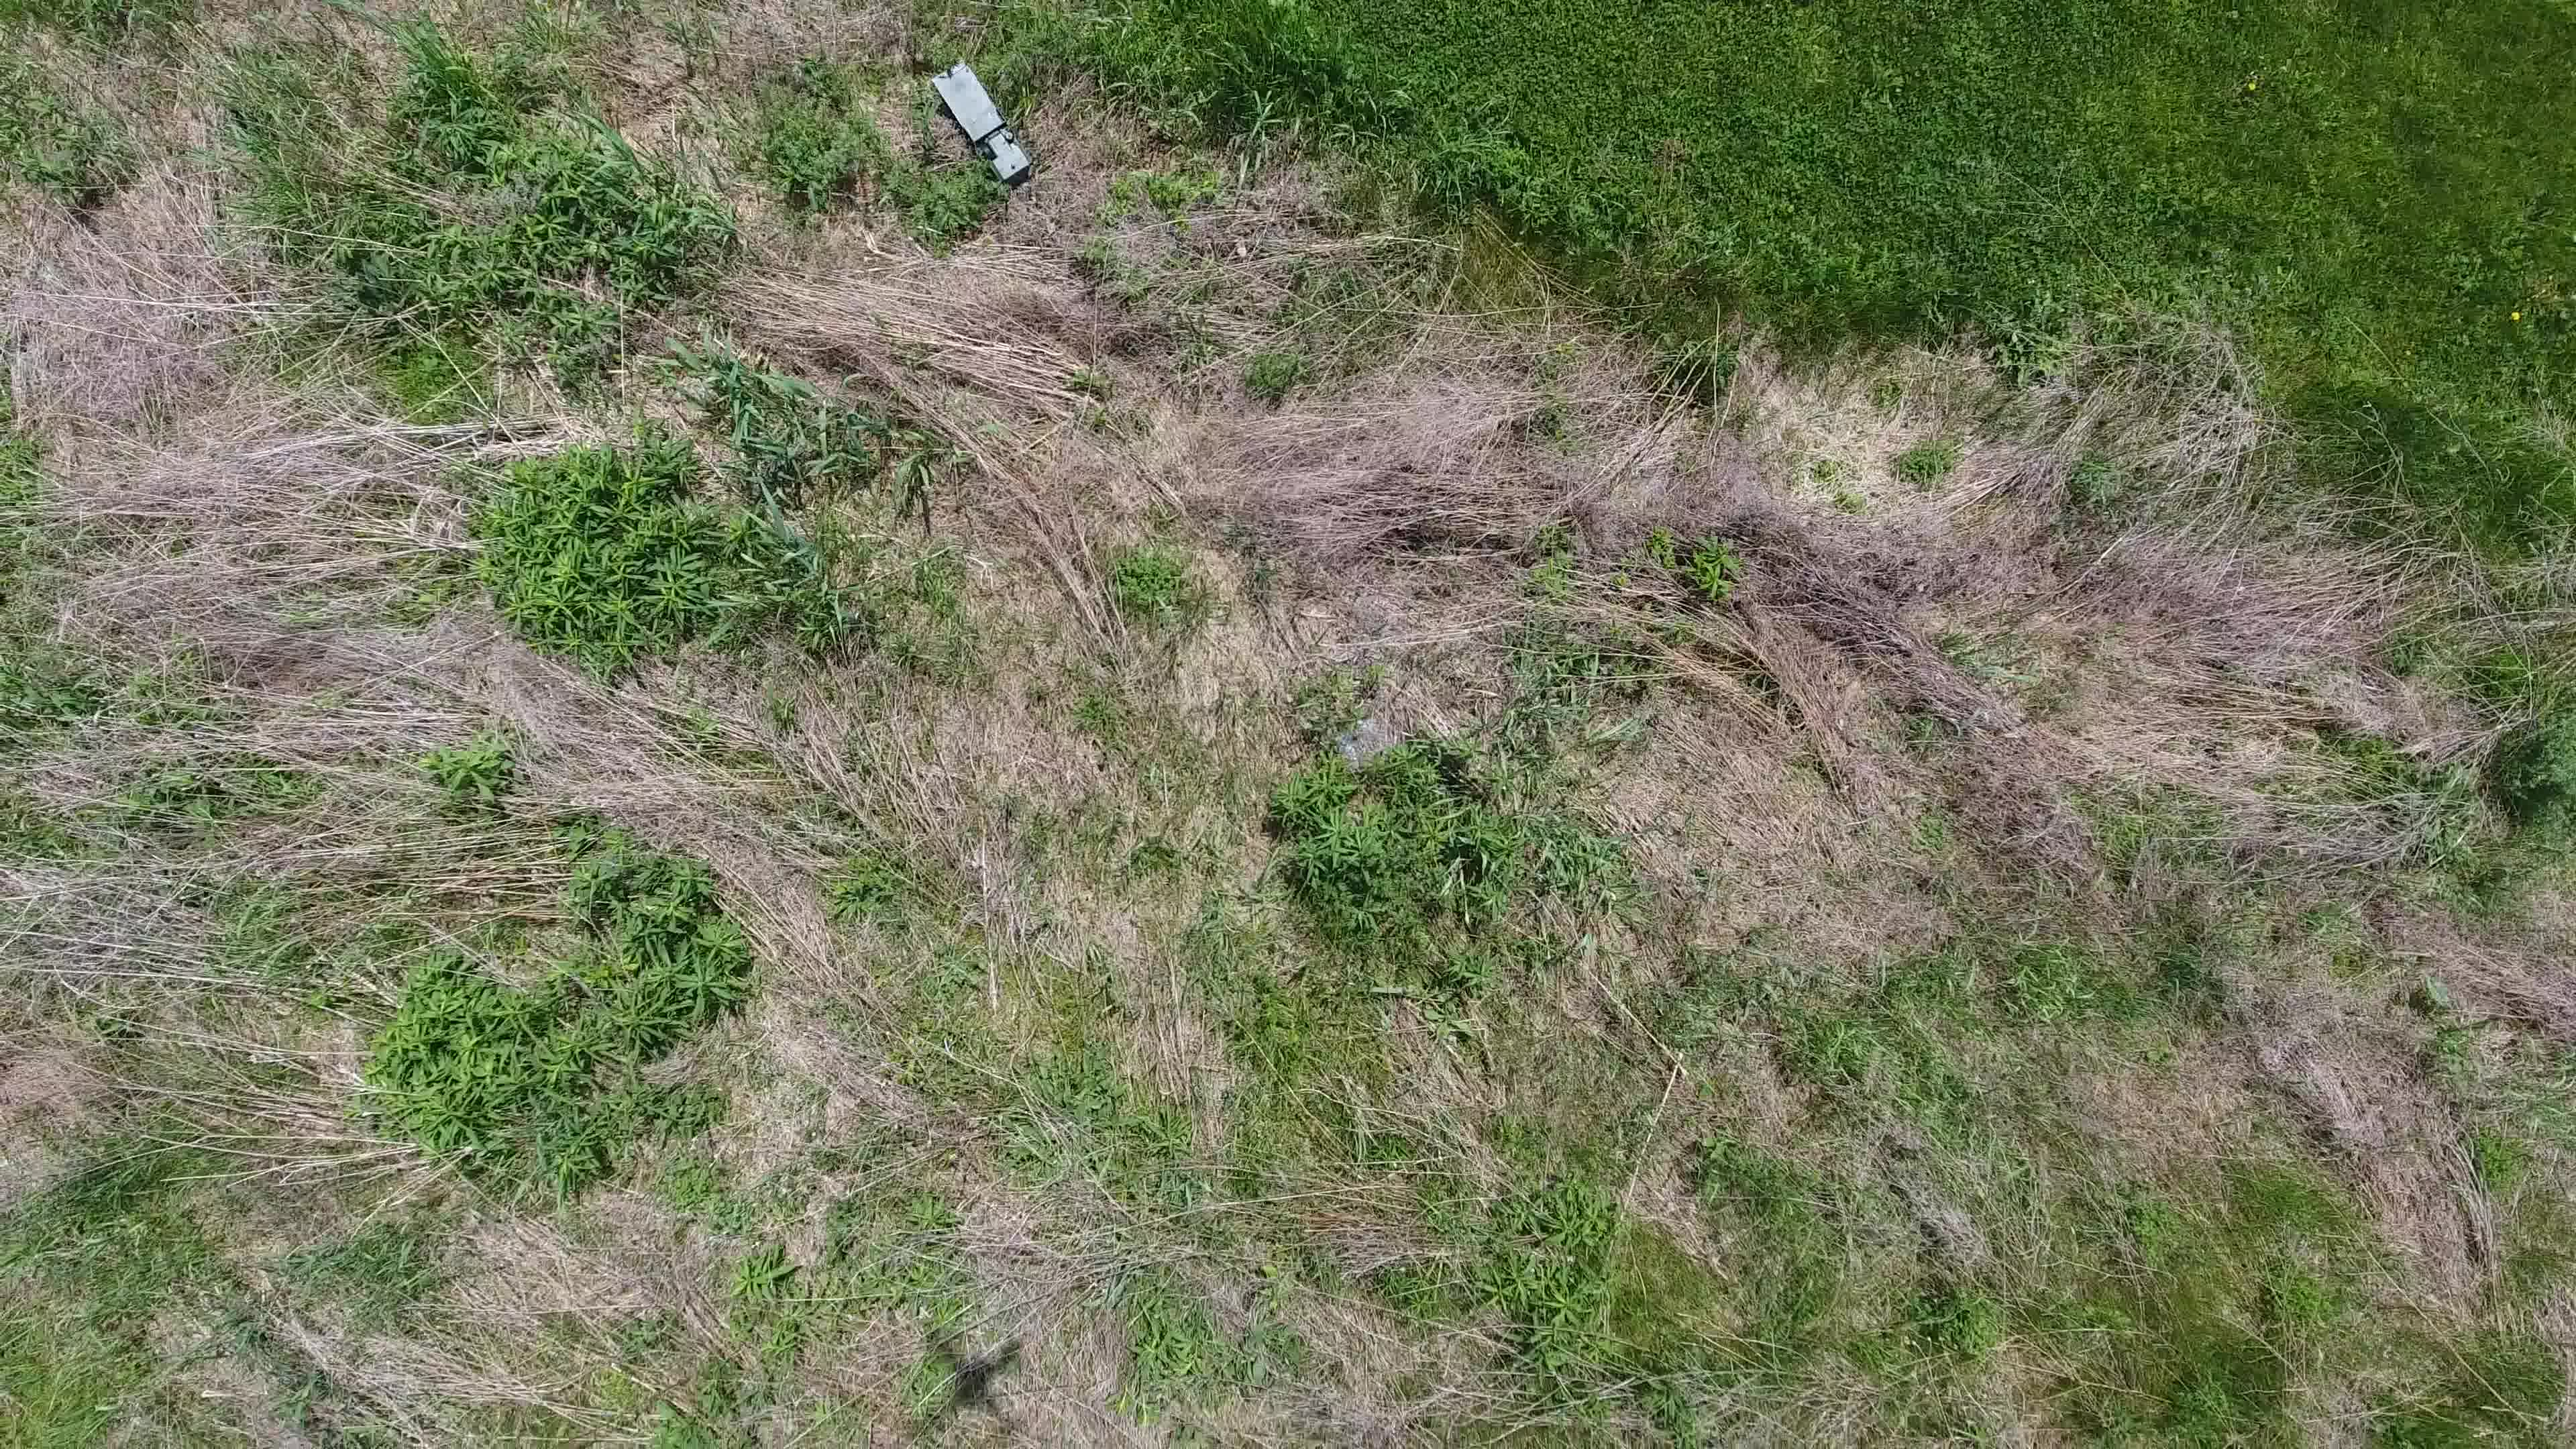transporter9: (931, 60, 1035, 189)
